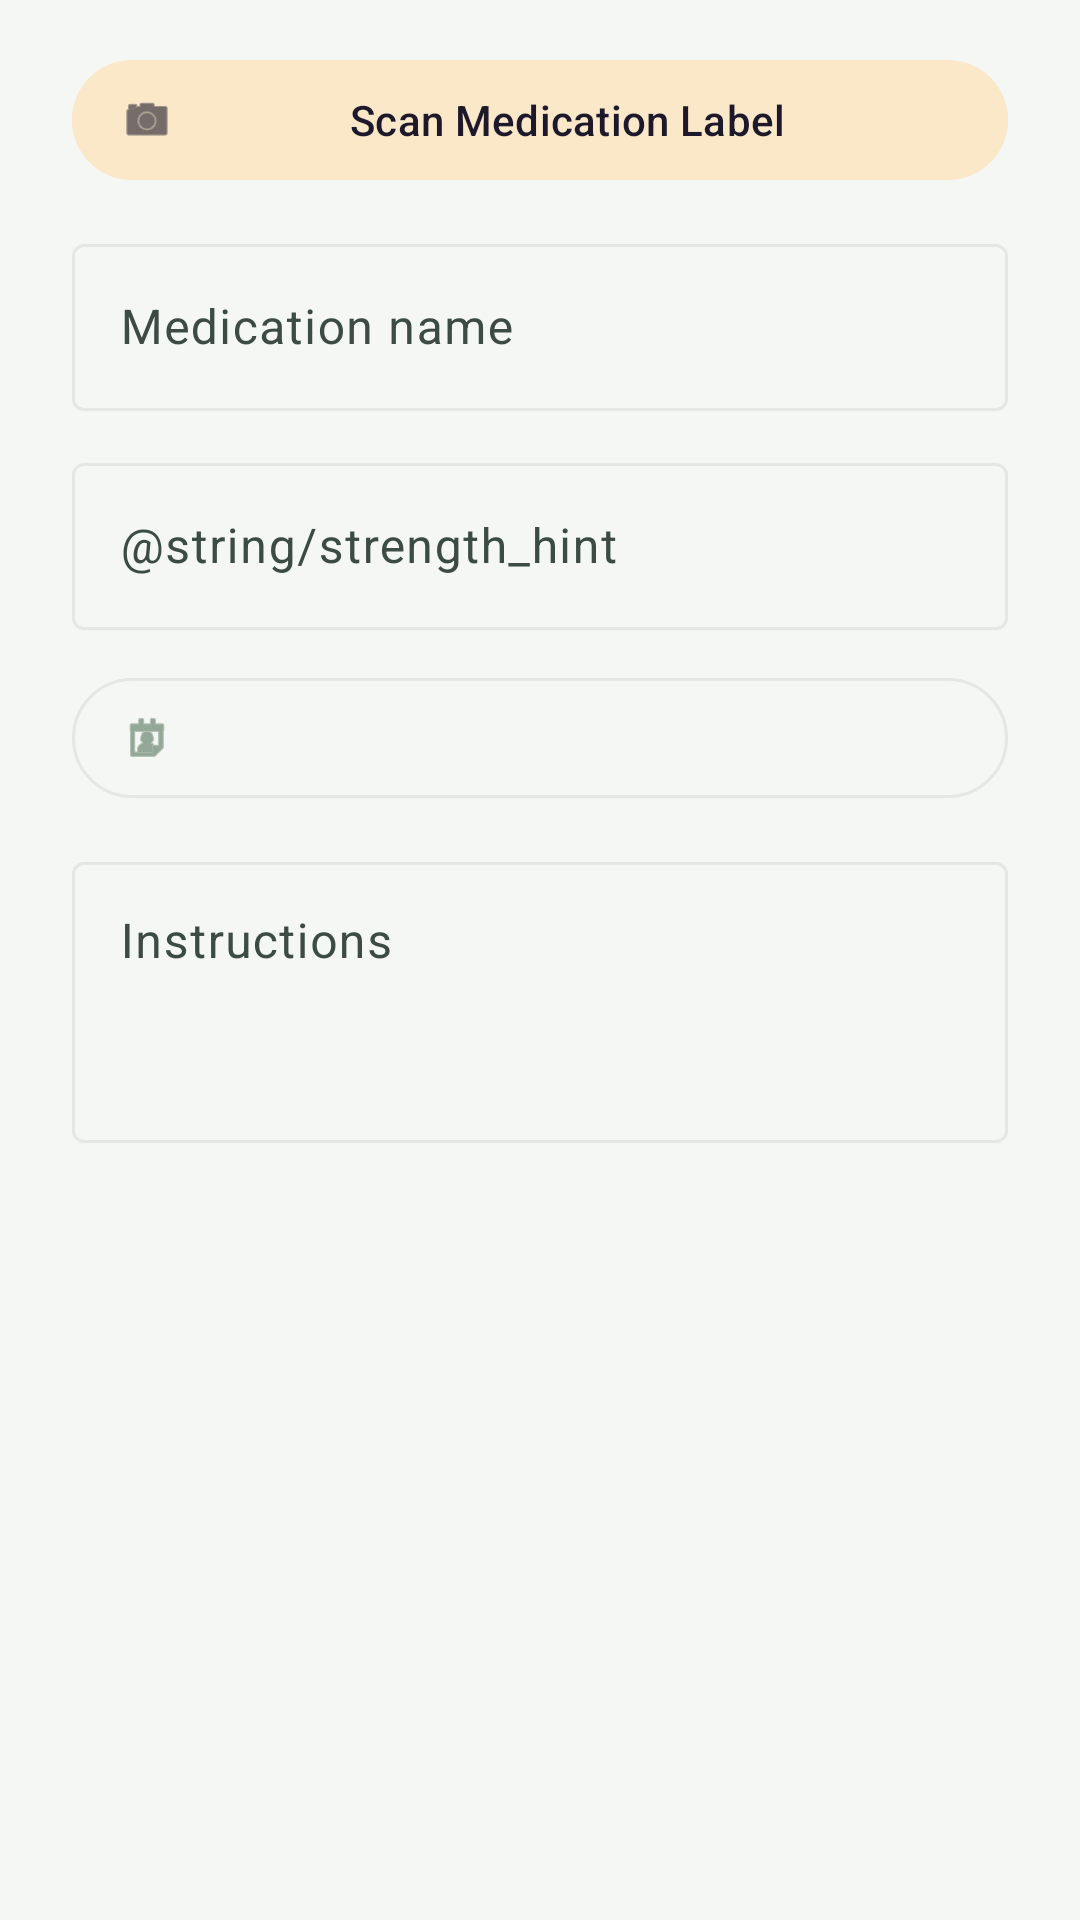

Screen size 1080 x 1920. Icon name, then its center in pixels as [x,y]:
calendar: [147,737]
